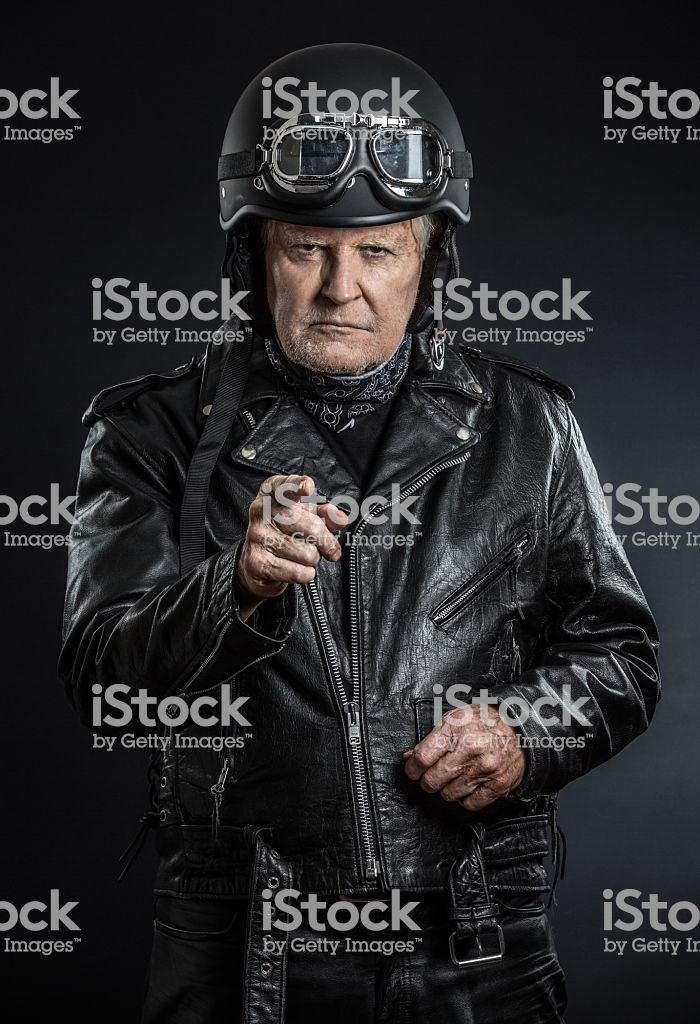helmet: (211, 59, 495, 256)
